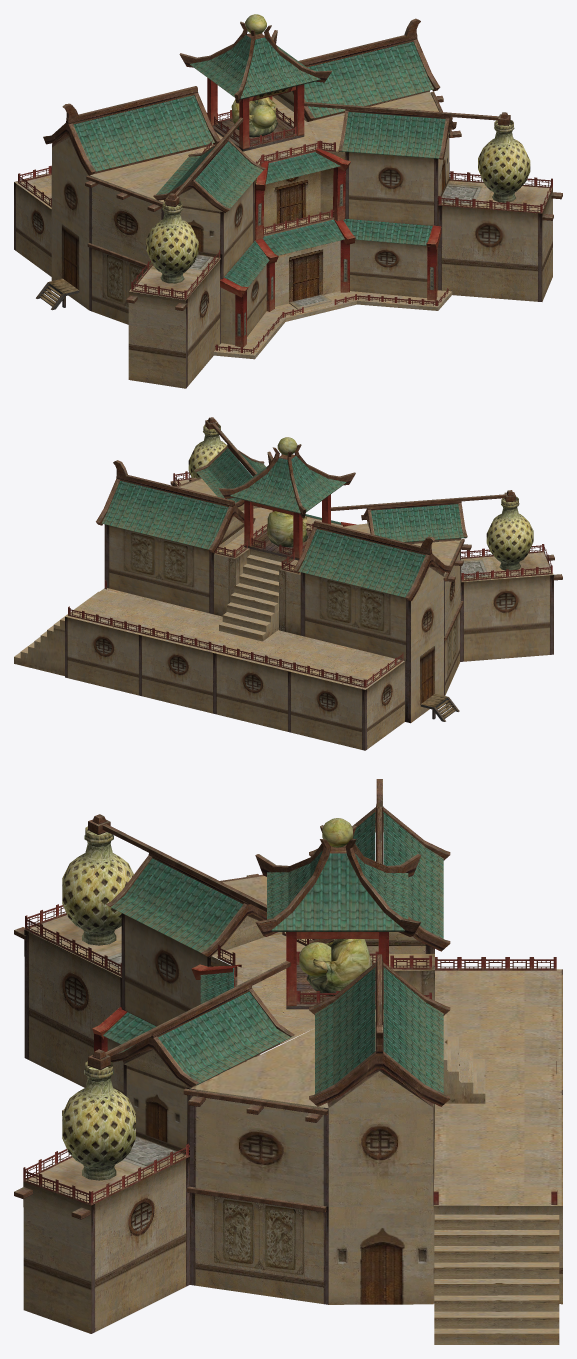
Rendered from w_cd_acce.glb.
The picture shows the model from 3 angles, top to bottom: view 1: azimuth 30°, elevation 25°; view 2: azimuth 150°, elevation 25°; view 3: azimuth 270°, elevation 25°; orthographic projection. The views are drawn at different scales.
Parts seen in each view (by area): view 1: W_CD_acce_wall02, W_CD_acce_roof, W_CD_acce_wall01, W_CD_acce_wall03, W_CD_acce_roof_al, W_CD_acce_cera, W_CD_acce_floor, W_CD_acce_sphe, W_CD_acce_man, W_CD_acce_dan01; view 2: W_CD_acce_wall02, W_CD_acce_roof, W_CD_acce_wall01, W_CD_acce_roof_al, W_CD_acce_wall03, W_CD_acce_cera, W_CD_acce_man, W_CD_acce_floor; view 3: W_CD_acce_wall02, W_CD_acce_roof, W_CD_acce_wall01, W_CD_acce_wall03, W_CD_acce_cera, W_CD_acce_roof_al, W_CD_acce_man, W_CD_acce_sphe, W_CD_acce_floor.
Boxes of the visible parts, x1,y1,x2,y2 form: W_CD_acce_wall02: (14,91,552,388); W_CD_acce_roof: (43,18,562,347); W_CD_acce_wall01: (51,91,450,344); W_CD_acce_wall03: (51,137,164,265); W_CD_acce_roof_al: (18,108,552,353); W_CD_acce_cera: (146,124,530,283); W_CD_acce_floor: (212,114,304,151); W_CD_acce_sphe: (245,14,275,128); W_CD_acce_man: (231,97,277,137); W_CD_acce_dan01: (39,278,78,305); W_CD_acce_wall02: (65,479,553,750); W_CD_acce_roof: (96,417,562,640); W_CD_acce_wall01: (14,504,443,722); W_CD_acce_roof_al: (68,471,552,687); W_CD_acce_wall03: (411,541,461,662); W_CD_acce_cera: (188,428,533,570); W_CD_acce_man: (267,511,307,547); W_CD_acce_floor: (244,529,311,560); W_CD_acce_wall02: (23,876,562,1333); W_CD_acce_roof: (14,779,450,1219); W_CD_acce_wall01: (123,916,559,1344); W_CD_acce_wall03: (190,1071,433,1206); W_CD_acce_cera: (62,832,135,1180); W_CD_acce_roof_al: (23,904,557,1205); W_CD_acce_man: (306,939,372,995); W_CD_acce_sphe: (299,818,352,976); W_CD_acce_floor: (286,962,383,1009).
Bounding box in the file's own units: 36.77 × 19.86 × 27.01.
12 materials, 12 textured.
